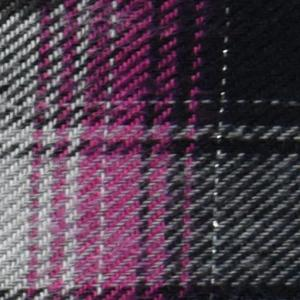Stain: (1, 1, 69, 19)
